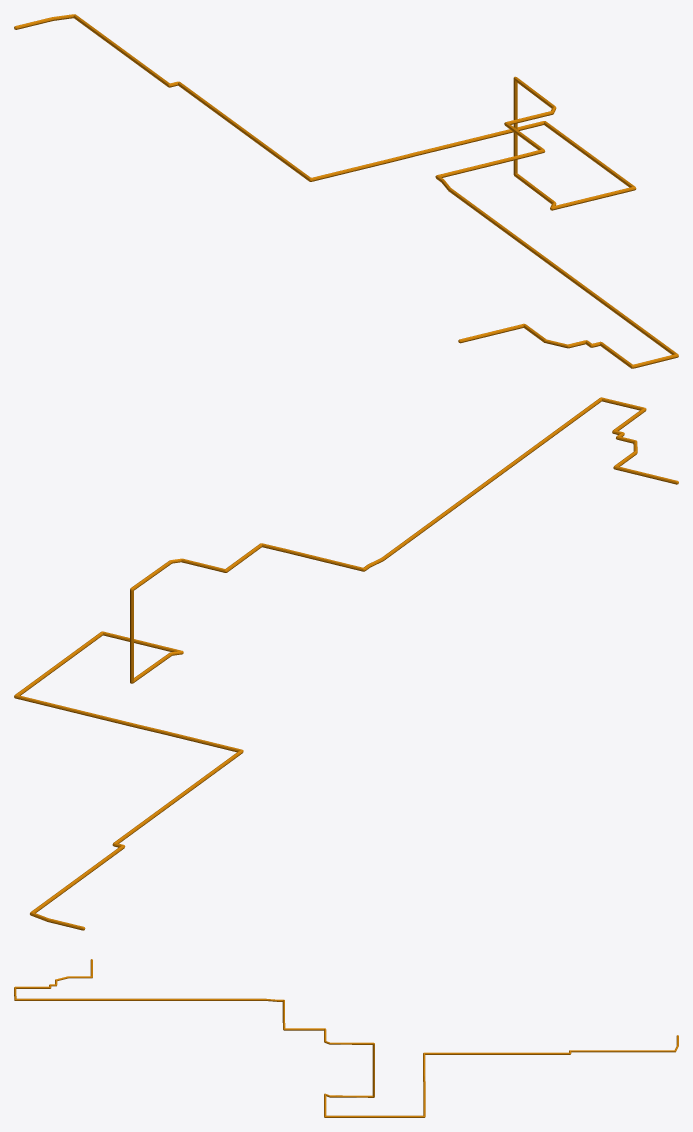
3 renders of one model, top to bottom at view 1: azimuth 30°, elevation 25°; view 2: azimuth 150°, elevation 25°; view 3: azimuth 270°, elevation 25°, orthographic. The views are drawn at different scales.
Bounding box in the file's own units: 2125 × 520 × 5695.
